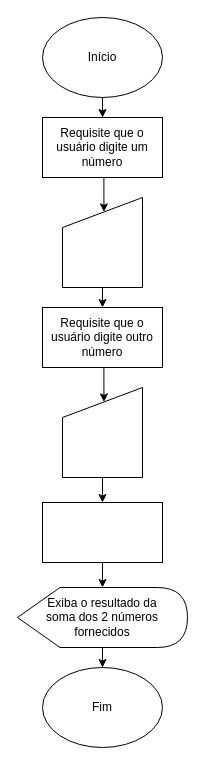
This 205x765 diagram has some shape labels left out. The centre of each missing label's shape, as x and y in pixels:
Some os dois números fornecidos pelo usuário: the point at 102,532
Usuário digita outro número: the point at 102,432
Usuário digita um número: the point at 102,242
